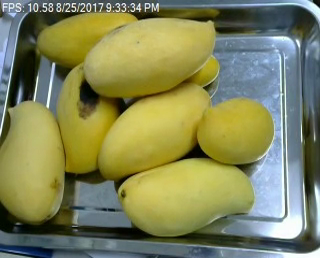Mango: (97, 80, 212, 180), (119, 158, 253, 238), (83, 18, 215, 96), (0, 101, 66, 226), (54, 61, 124, 172), (37, 11, 138, 67), (196, 98, 273, 164), (184, 53, 219, 89)
